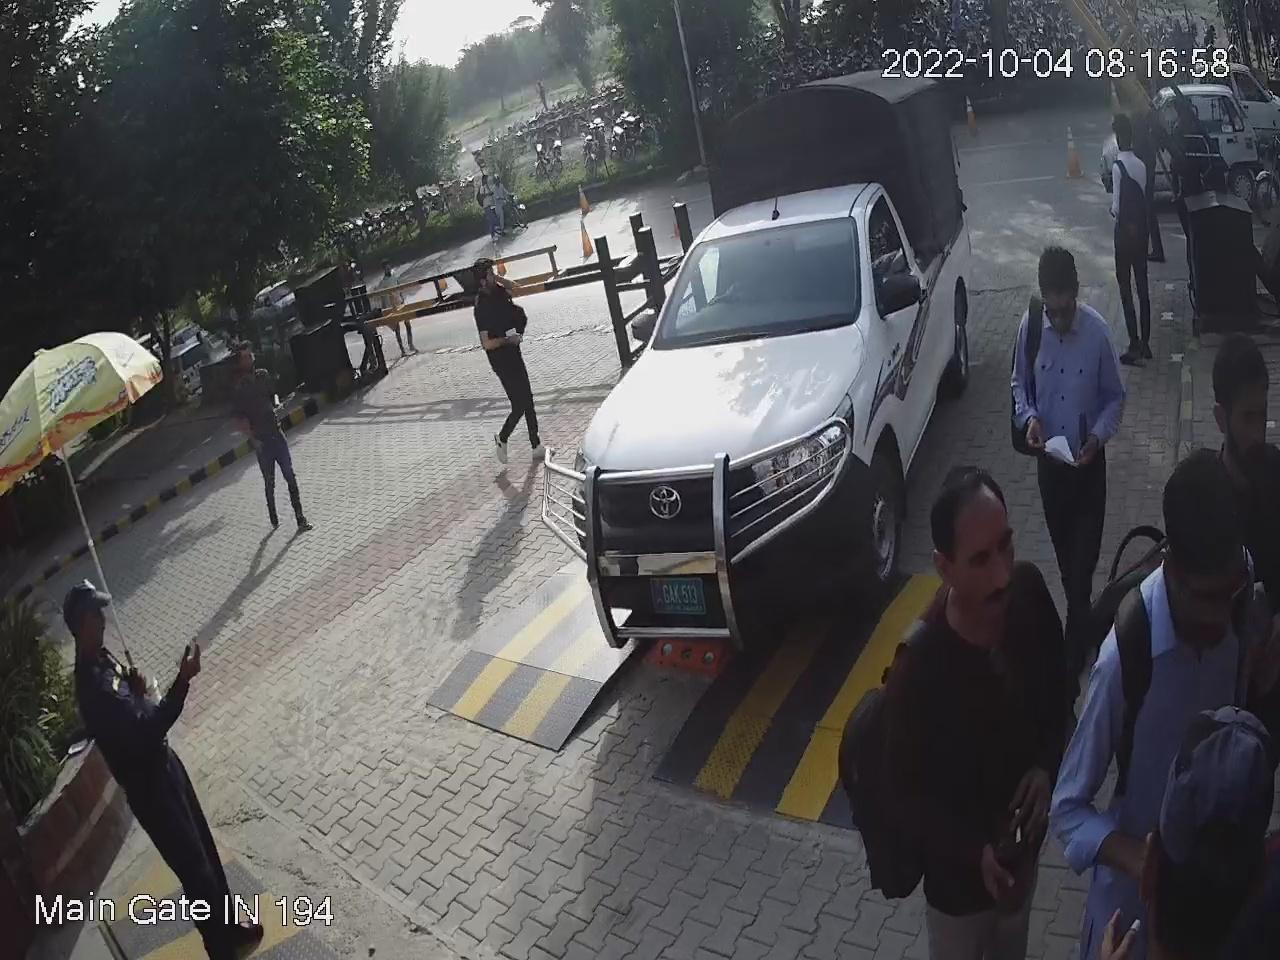windshield: (650, 210, 853, 348)
